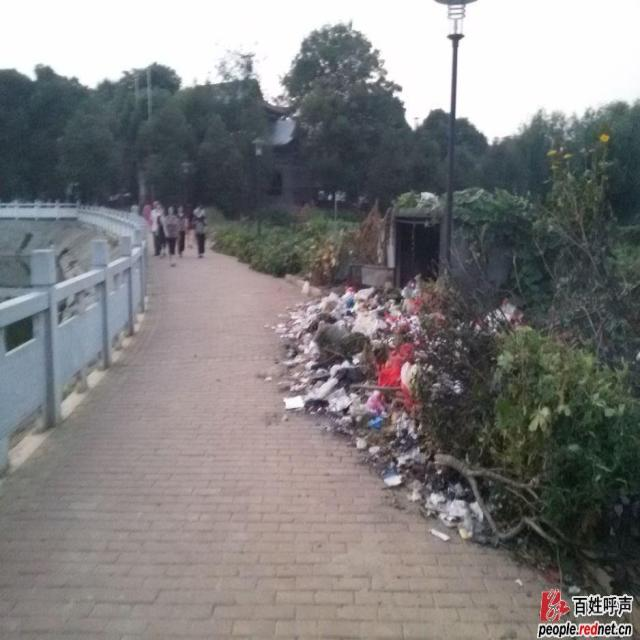garbage: (268, 274, 450, 490), (411, 488, 494, 548)
